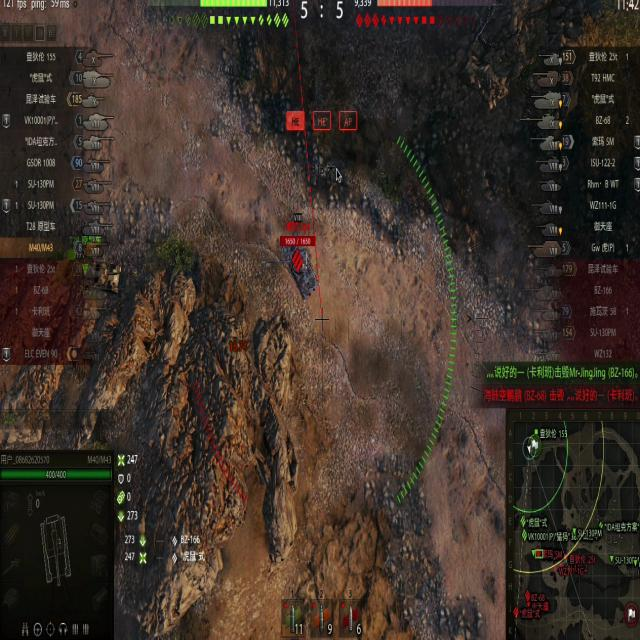tank: (280, 225, 320, 302)
